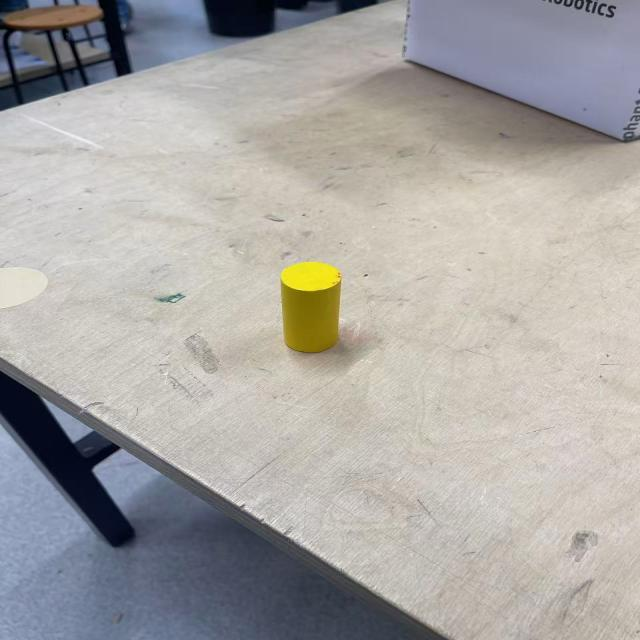yellow_cylinder: (278, 260, 342, 354)
